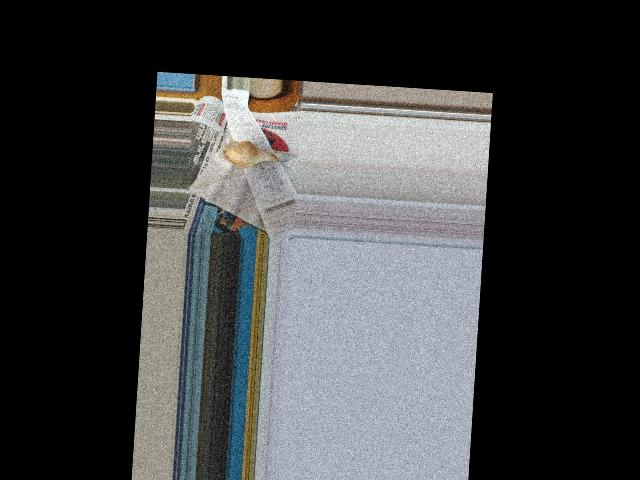onion: (226, 142, 275, 169)
